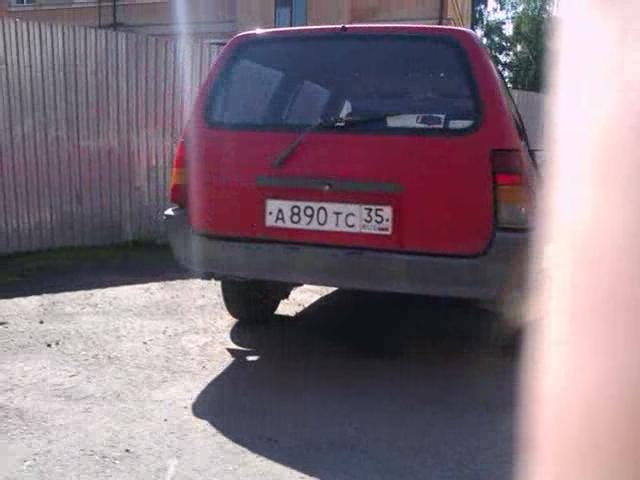car license plate: (261, 196, 399, 240)
